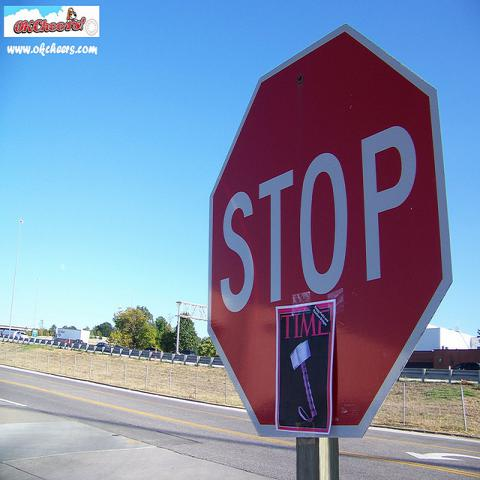truck: (52, 328, 88, 344)
